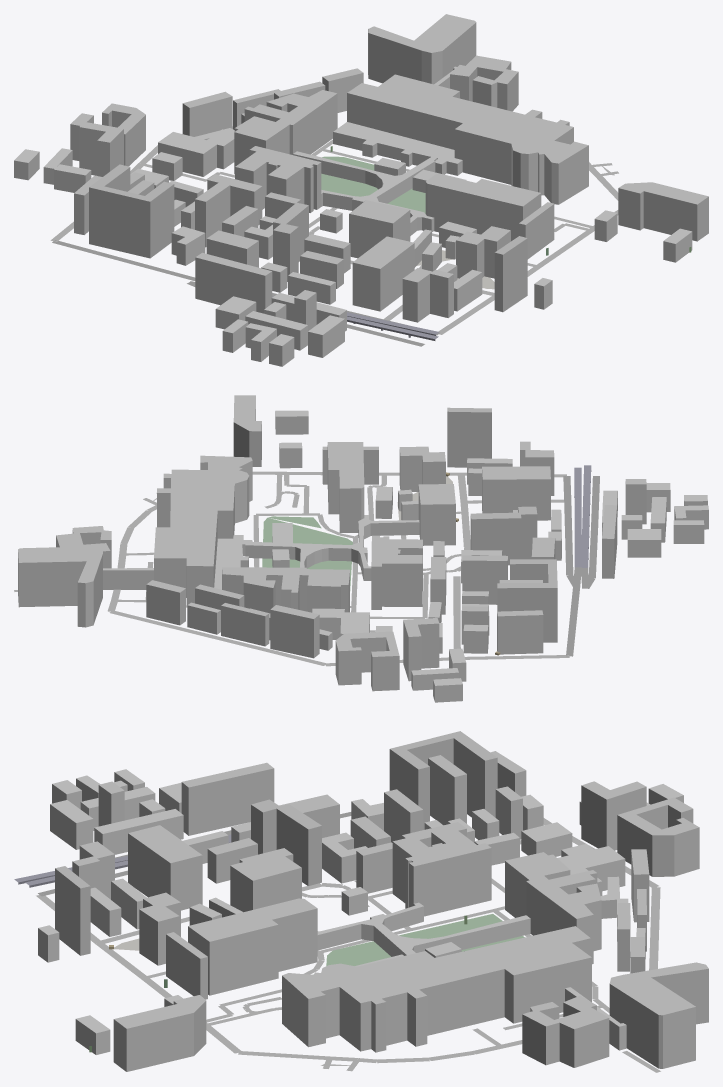
3 renders of one model, top to bottom at view 1: azimuth 30°, elevation 25°; view 2: azimuth 150°, elevation 25°; view 3: azimuth 270°, elevation 25°, orthographic. The views are drawn at different scales.
Size of the model in its own units: 547 by 61.01 by 556.
